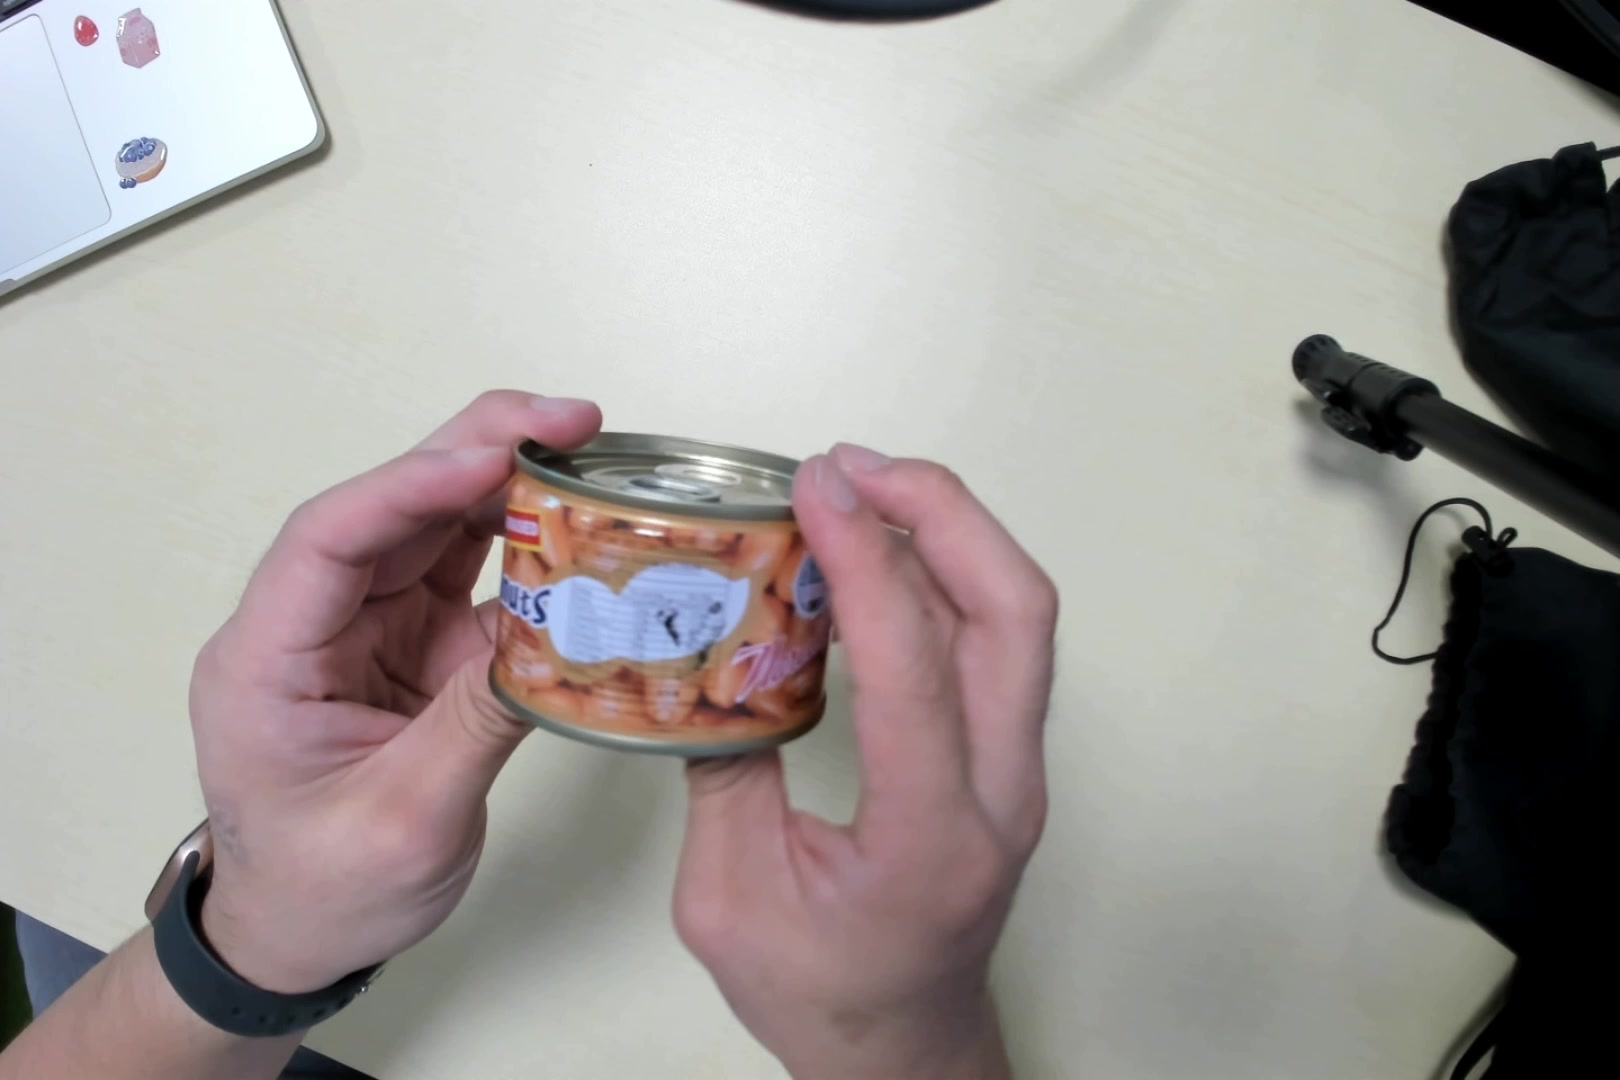CannedBraisedPeanuts_100-199g_NonHalal_NonHealthy: (493, 442, 828, 753)
